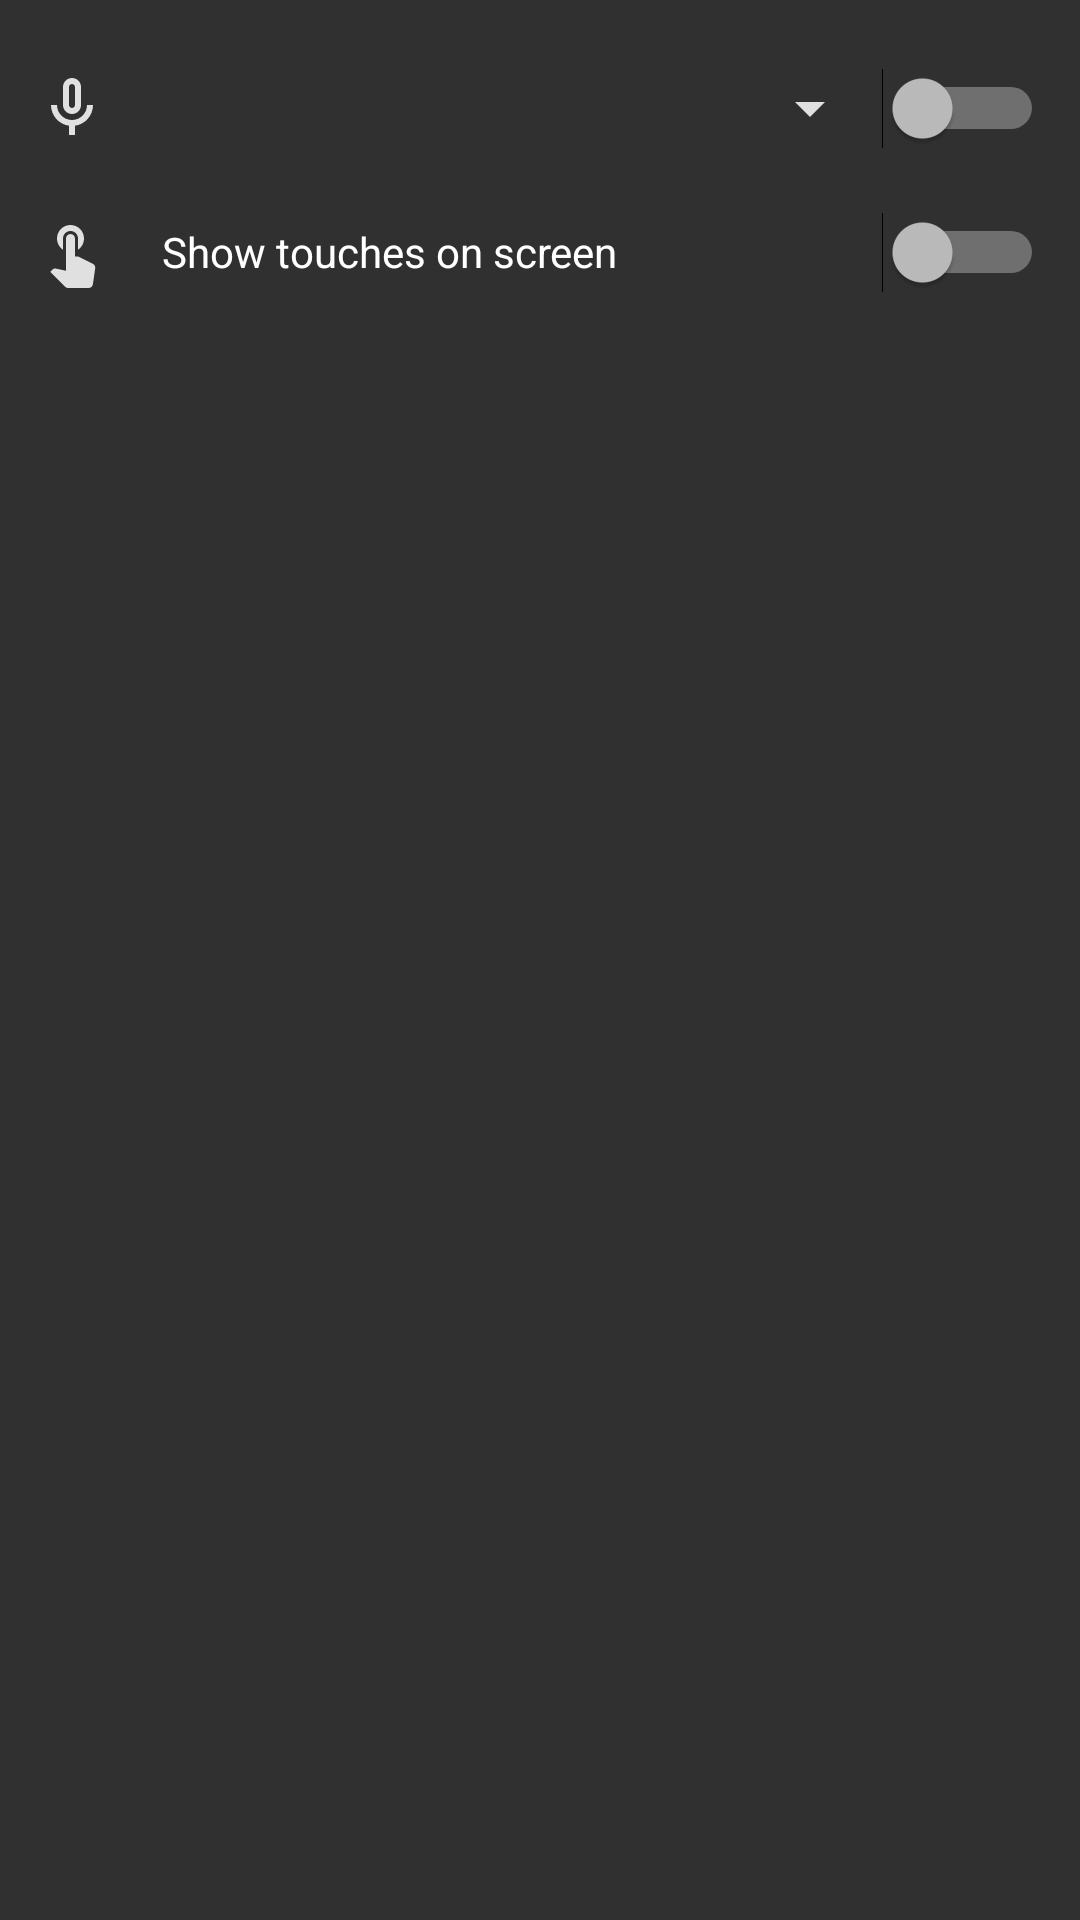

Screen size 1080 × 1920. Icon name, then its center in pixels as (x,y):
mic: (72,106)
